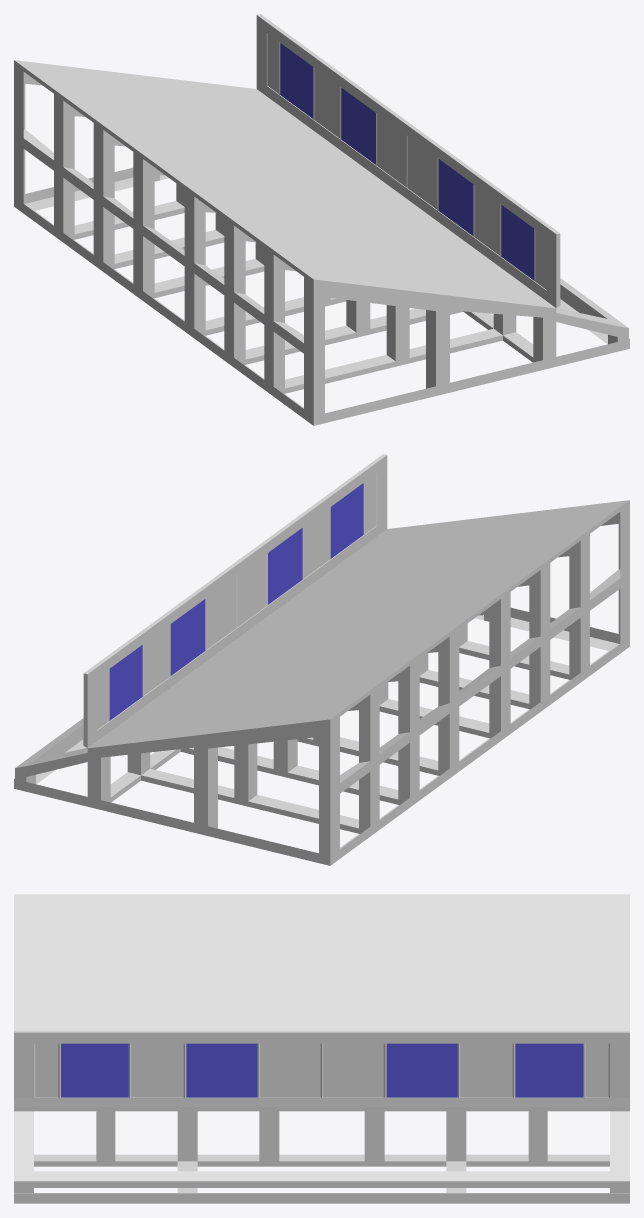
The model's file is Start Gate.fbx.
3 renders of one model, top to bottom at view 1: azimuth 30°, elevation 25°; view 2: azimuth 150°, elevation 25°; view 3: azimuth 270°, elevation 25°, orthographic. The views are drawn at different scales.
Visible parts, largest first — view 1: Cube, Cube.001; view 2: Cube, Cube.001; view 3: Cube, Cube.001.
Part boxes in pixels (<box>): Cube: <box>14,60,629,425</box>; Cube.001: <box>256,14,560,308</box>; Cube: <box>14,500,629,865</box>; Cube.001: <box>83,454,387,748</box>; Cube: <box>14,894,629,1203</box>; Cube.001: <box>14,1030,629,1106</box>.
Bounding box in the file's own units: 857 × 380 × 1407.
